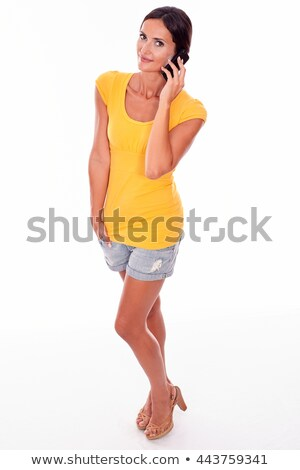phone: (160, 47, 200, 81)
talk: (135, 32, 200, 95)
